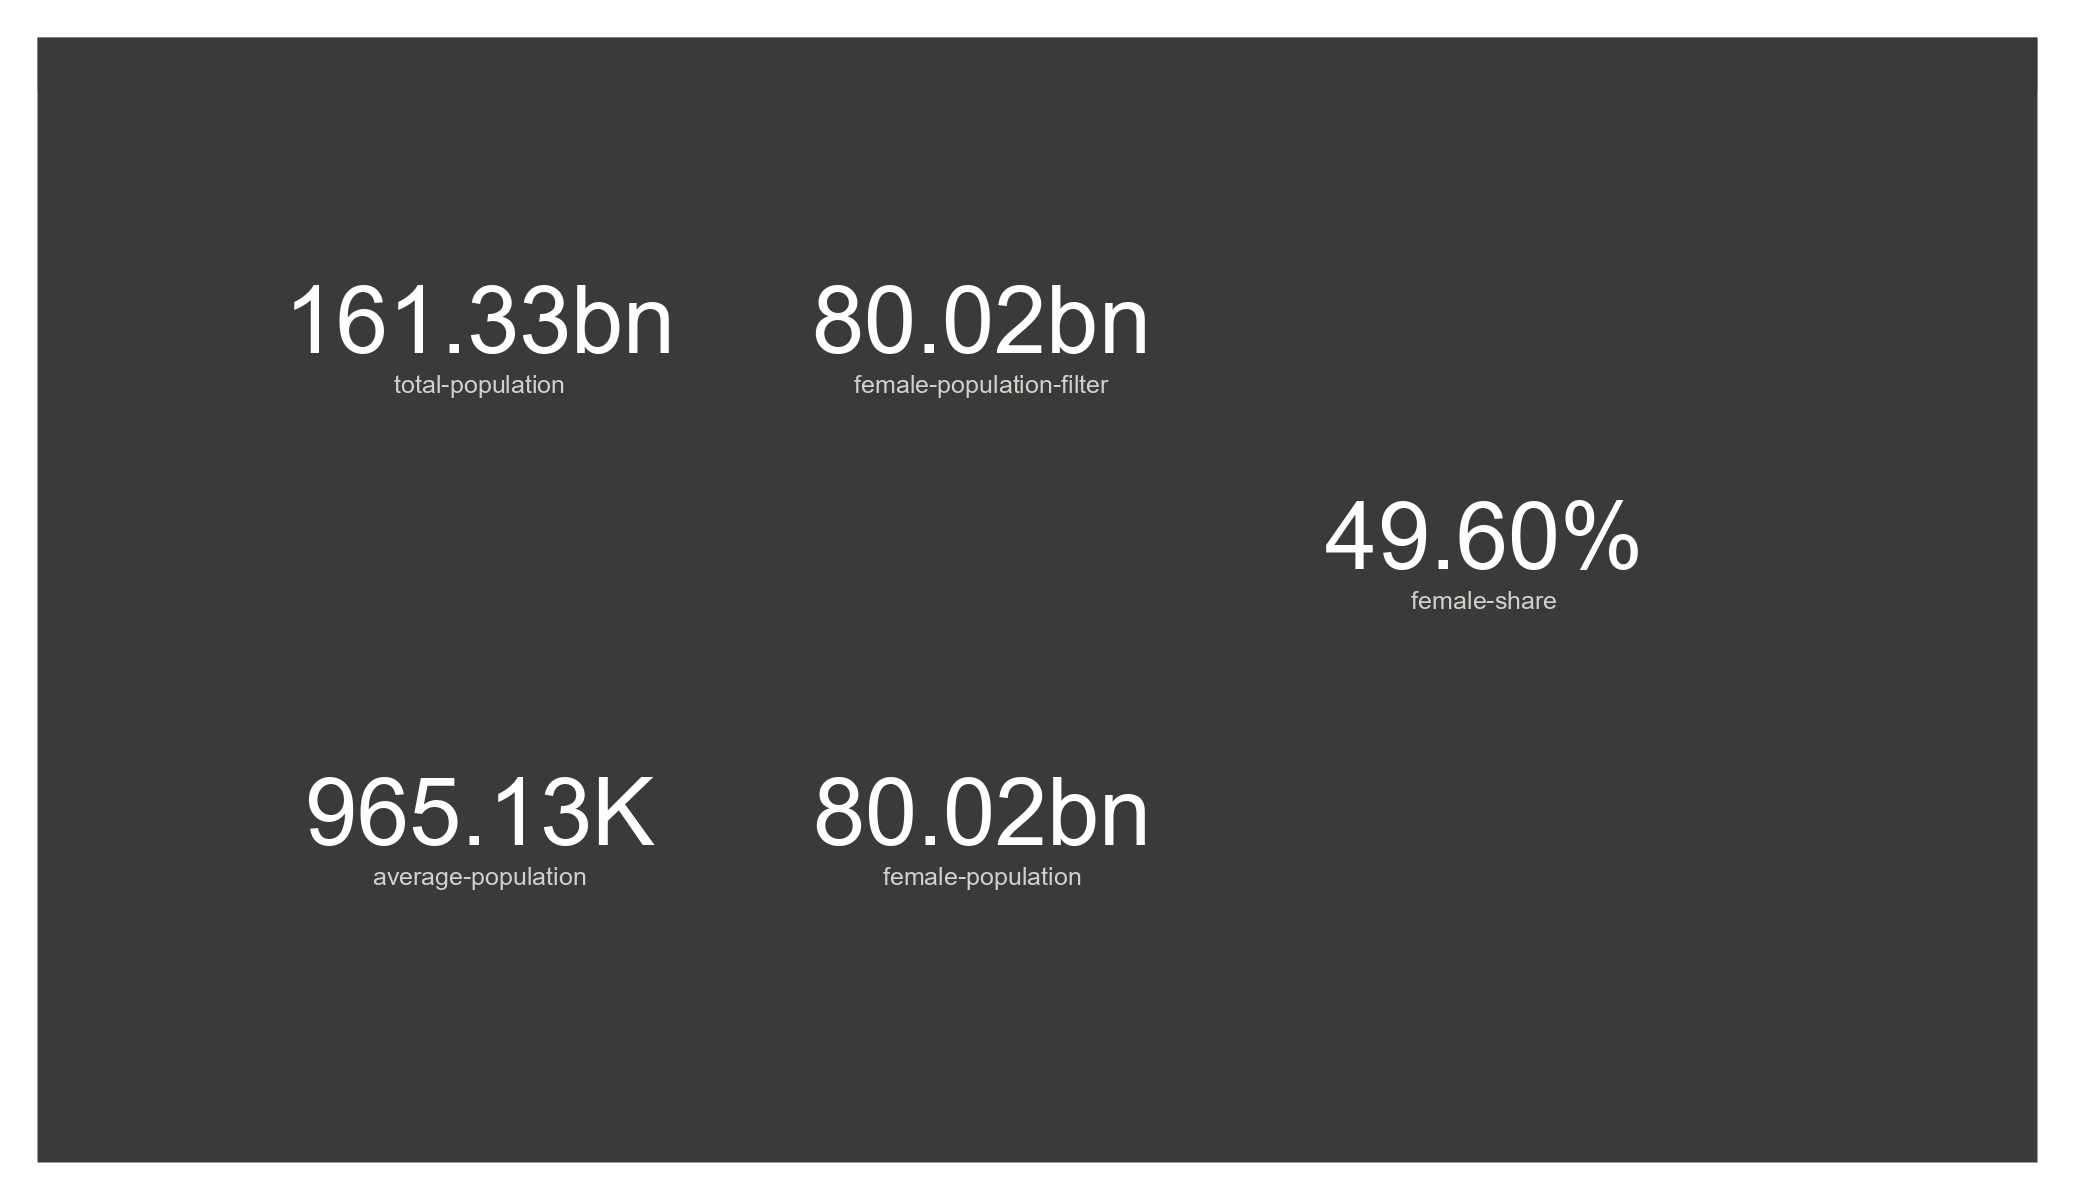

The page's visual inventory and layout, read from the dashboard file:
{"tool":"powerbi","page":{"name":"Measure","canvas":[1280,720],"ordinal":1},"visuals":[{"type":"card","fields":{"Values":["FACT-population.total-population"]},"box":[142.7,45.3,279.9,278.6],"z":0},{"type":"card","fields":{"Values":["FACT-population.average-population"]},"box":[142.7,359.5,279.9,279.9],"z":1000},{"type":"card","fields":{"Values":["FACT-population.female-population"]},"box":[463.8,45.3,279.9,278.6],"z":2000},{"type":"card","fields":{"Values":["FACT-population.female-population"]},"box":[463.8,359.5,281.3,279.9],"z":3000},{"type":"card","fields":{"Values":["FACT-population.female-share"]},"box":[786.3,183.9,279.9,278.6],"z":4000}]}

Visuals, with their boxes in screenshot pixels (x1, y1, x2, y2):
card - FACT-population.total-population: {"left": 260, "top": 108, "right": 698, "bottom": 544}
card - FACT-population.average-population: {"left": 260, "top": 599, "right": 698, "bottom": 1037}
card - FACT-population.female-population: {"left": 762, "top": 108, "right": 1200, "bottom": 544}
card - FACT-population.female-population: {"left": 762, "top": 599, "right": 1202, "bottom": 1037}
card - FACT-population.female-share: {"left": 1266, "top": 325, "right": 1703, "bottom": 760}
